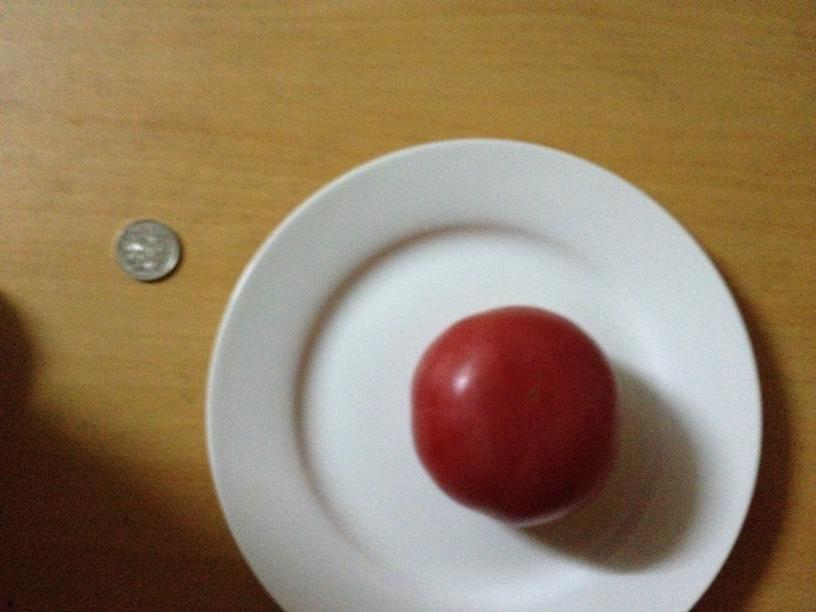coin: (114, 217, 183, 281)
tomato: (407, 302, 618, 529)
